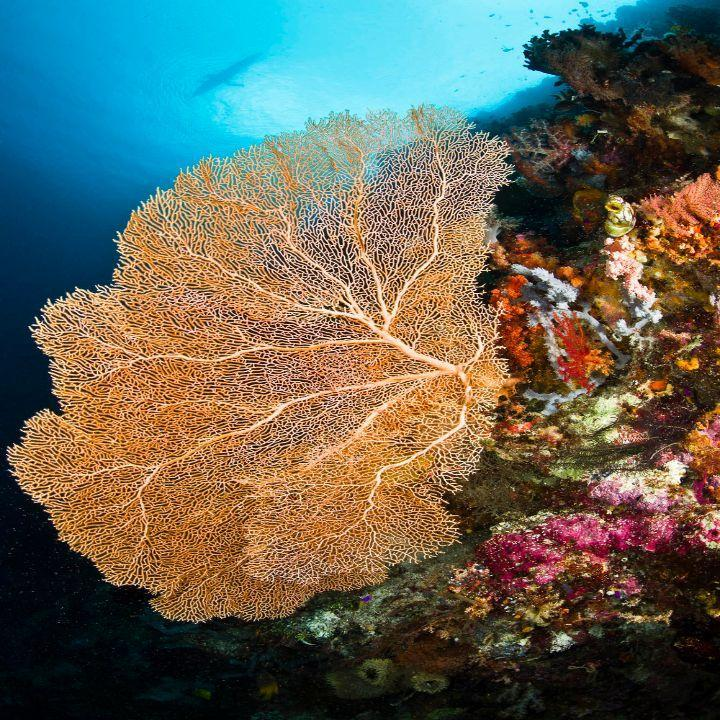Healthy Coral: (20, 101, 710, 633)
